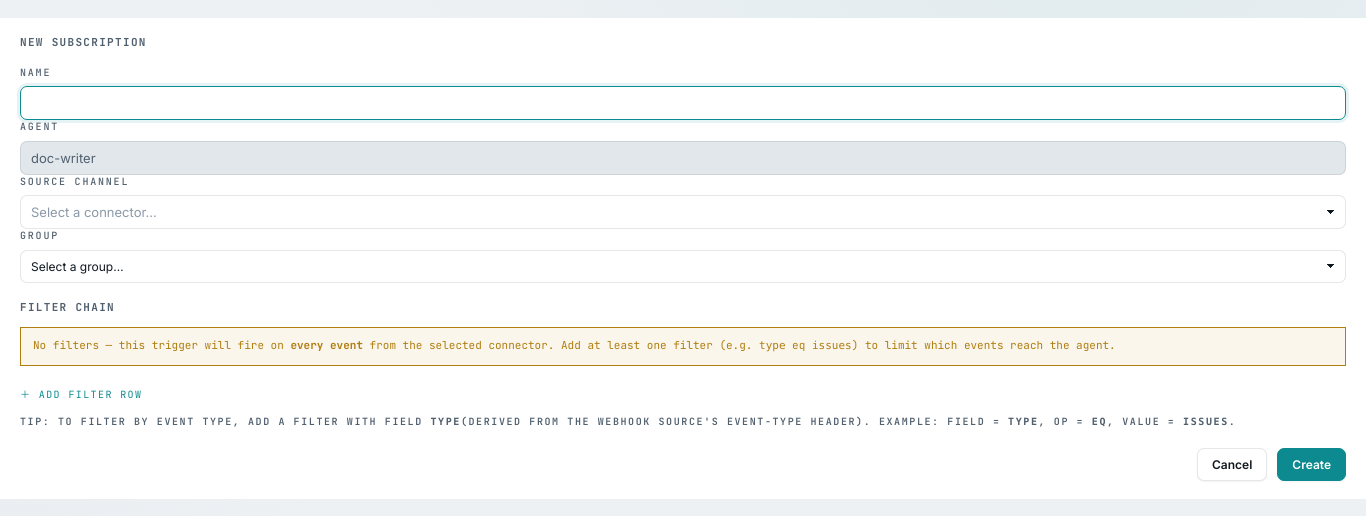
Scenario: TriggerForm › adds and removes filter rows
Expected: the text "No filters" is shown, [33, 339, 290, 353]
Click the button "＋ Add filter row". click: (81, 393)
box: [20, 382, 142, 405]
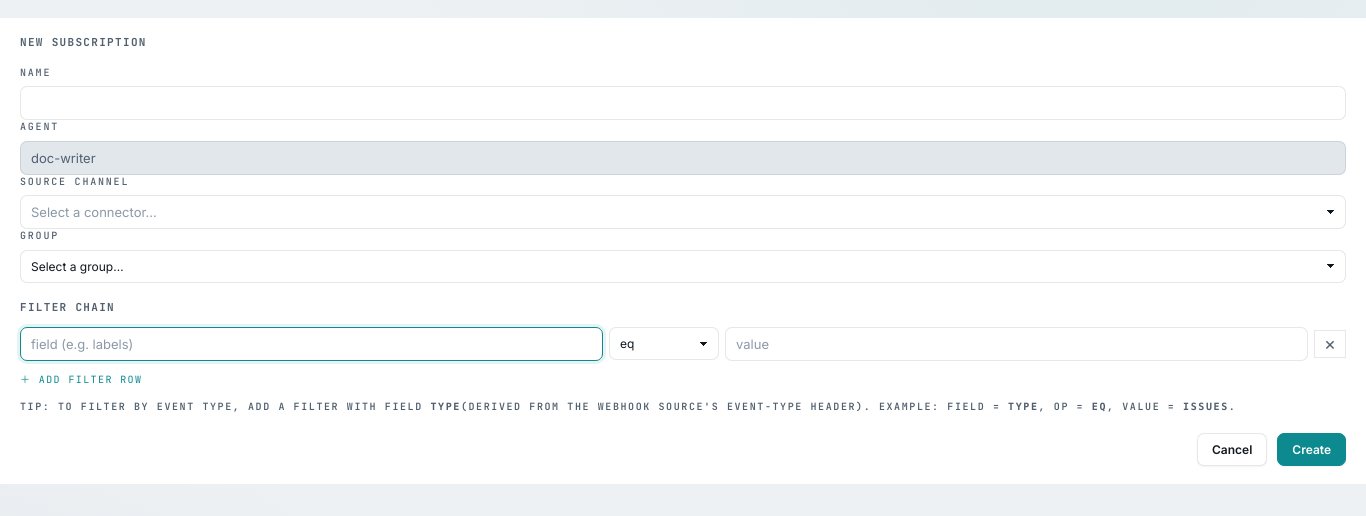
Expected: the field with placeholder "field (e.g. labels)" is shown, [20, 327, 603, 361]
Click the button named "remove filter 1". click: (1330, 344)
box: [1314, 330, 1346, 358]
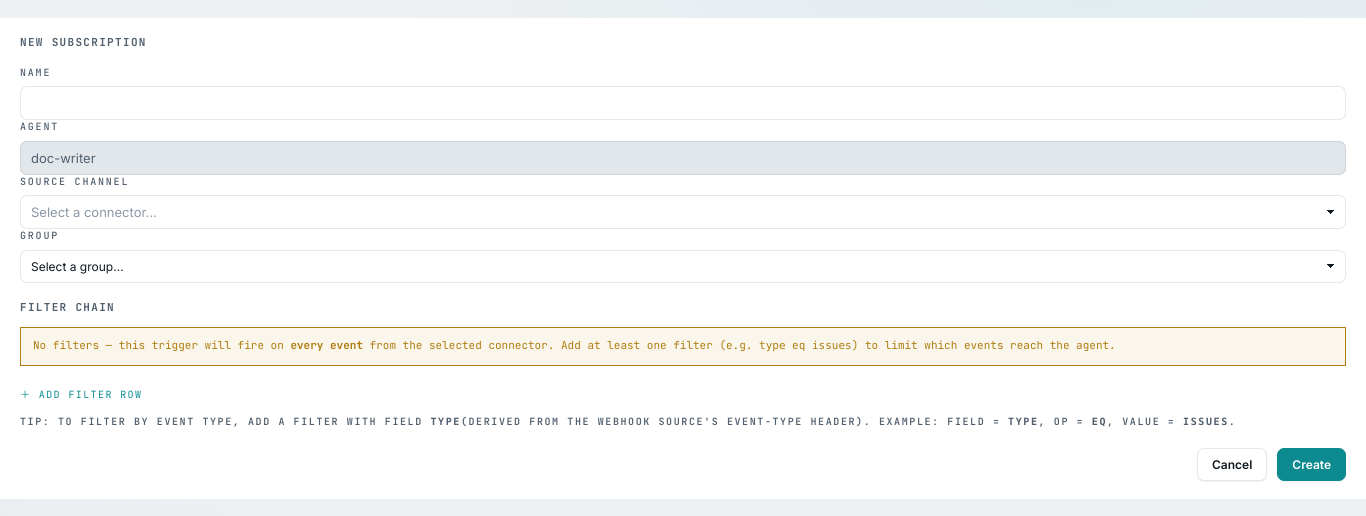
Expected: the text "No filters" is shown, [33, 339, 290, 353]
